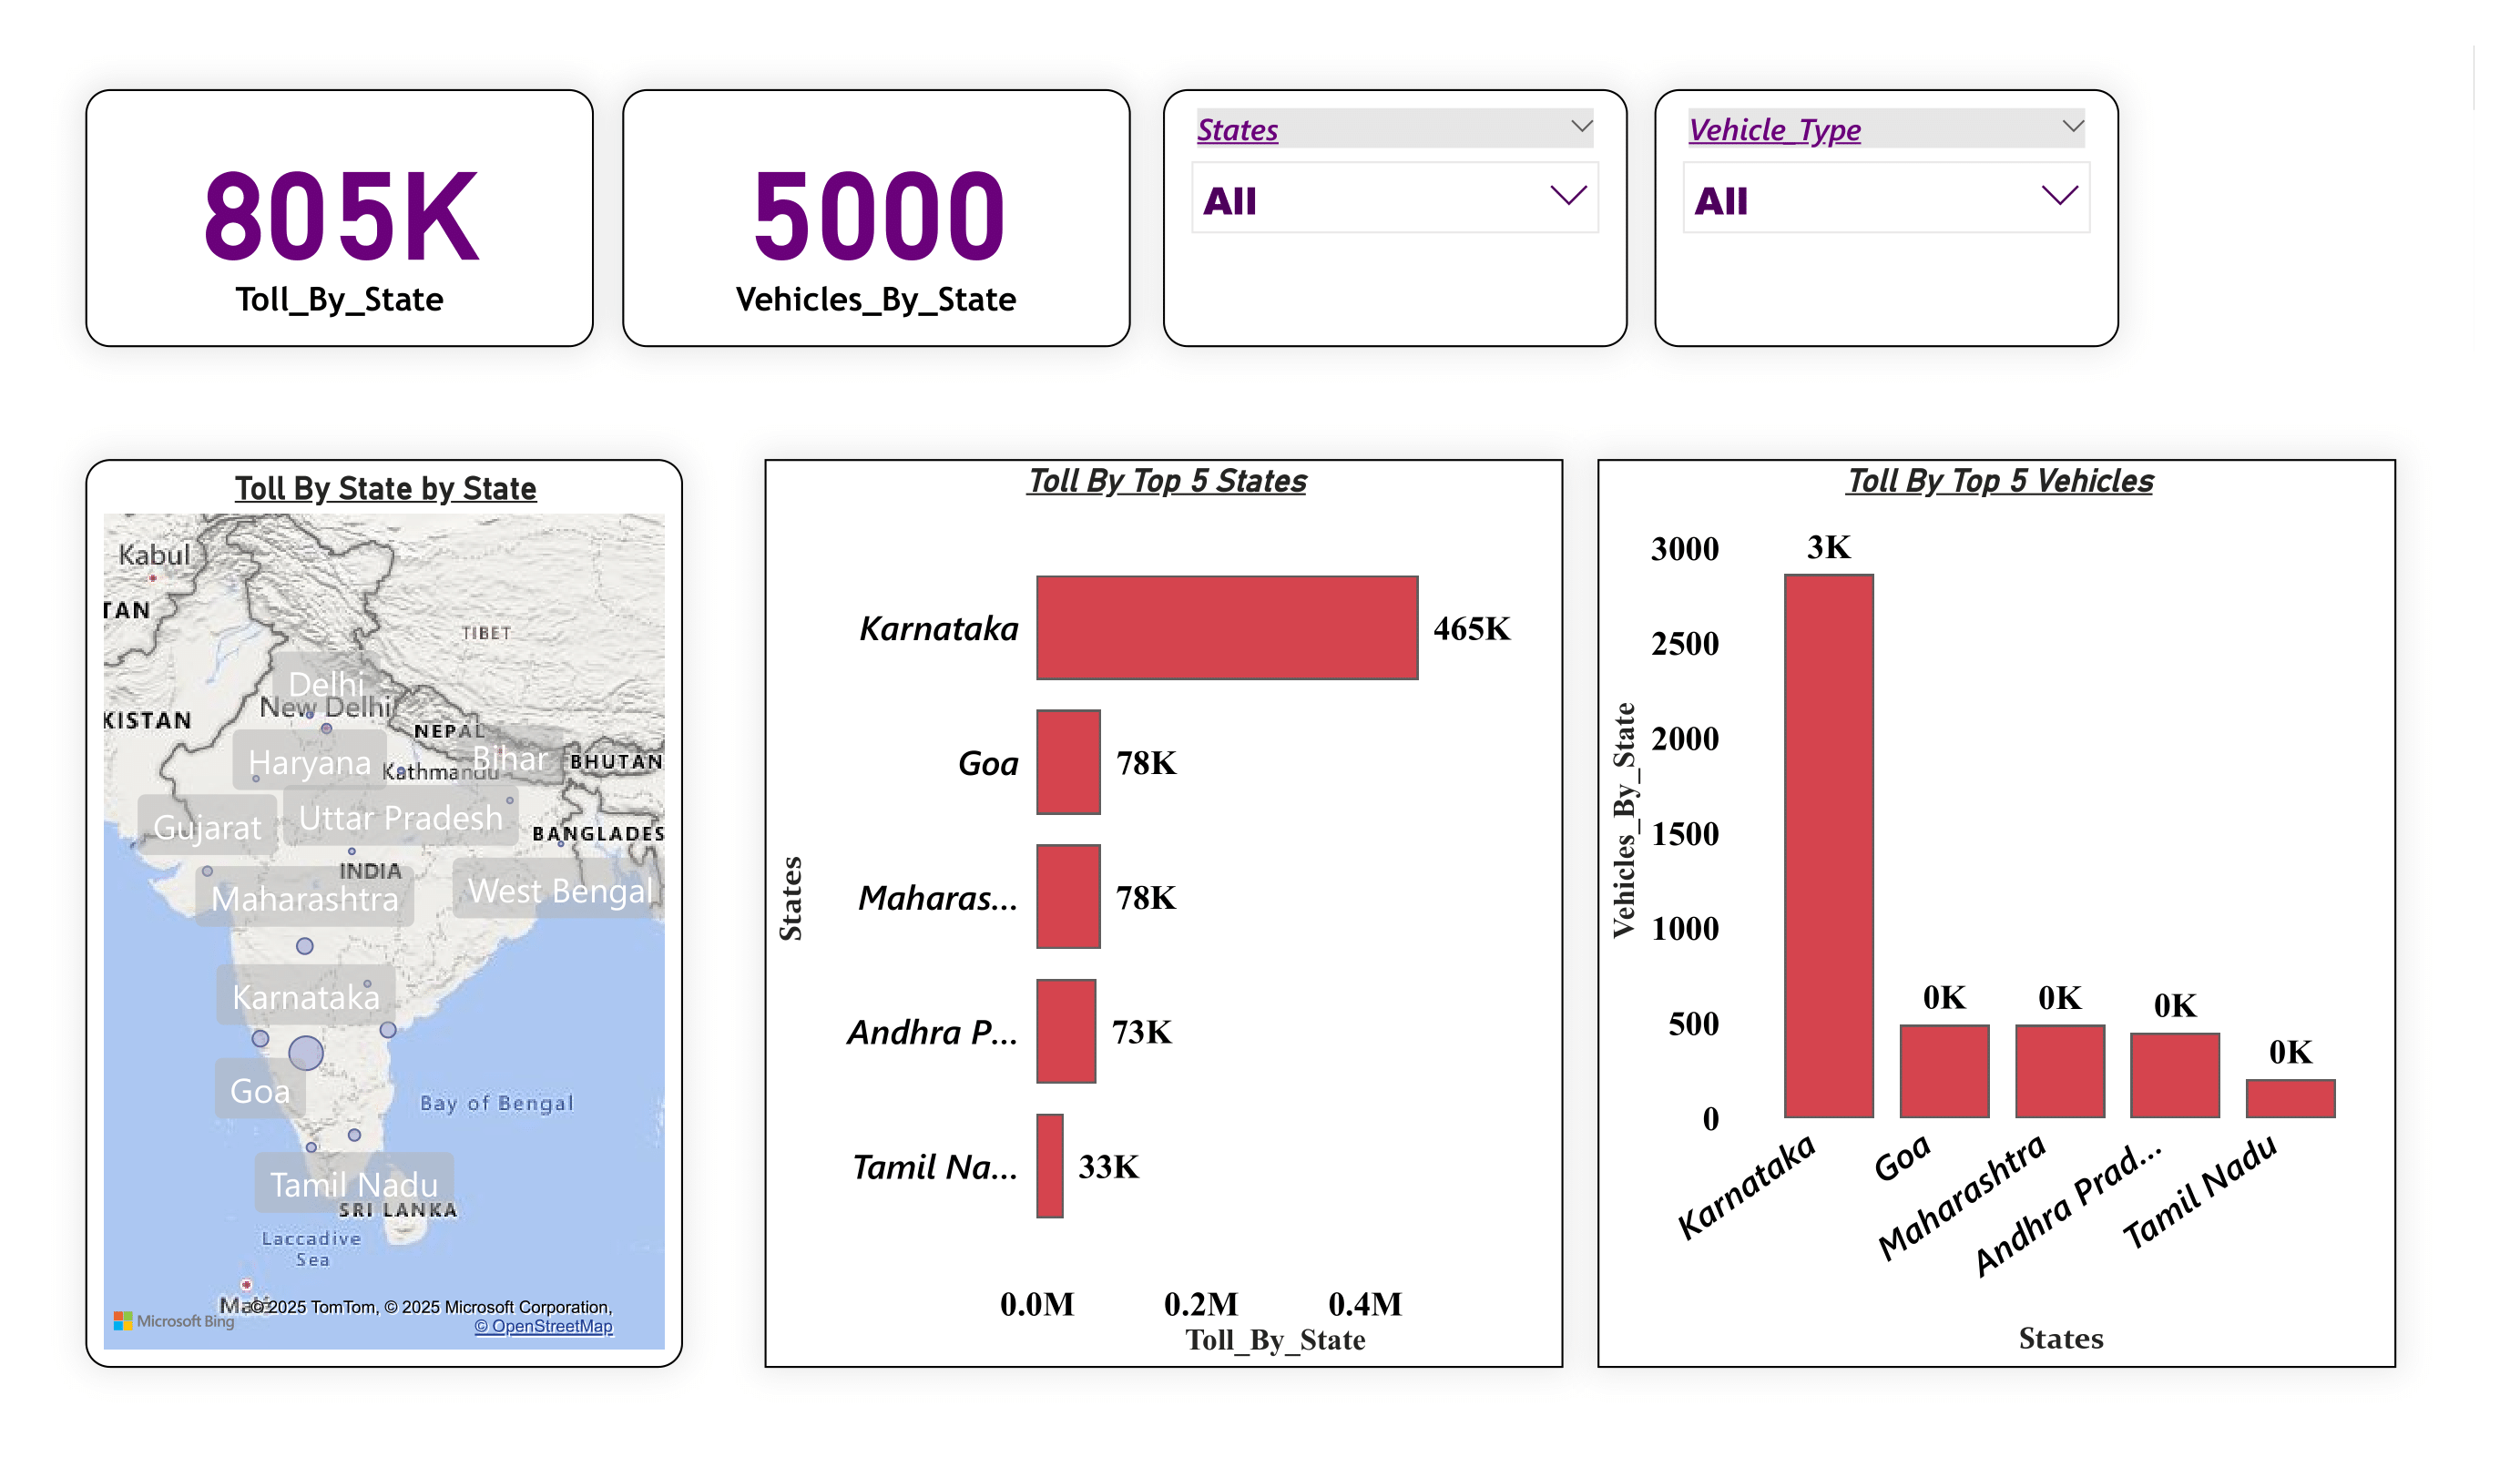

What the dashboard file says about the page in this screenshot:
{"tool":"powerbi","page":{"name":"Page 2","canvas":[1280,720],"ordinal":1},"visuals":[{"type":"card","fields":{"Values":["Measure Table.Toll_By_State"]},"box":[21.2,22.7,268,136.3],"z":0},{"type":"card","fields":{"Values":["Measure Table.Vehicles_By_State"]},"box":[304.4,22.7,268,136.3],"z":1000},{"type":"map","title":"Toll By State by  State ","fields":{"Category":["FastagFraudDetection. State full name"],"Size":["Measure Table.Toll_By_State"]},"box":[21.2,218,315,478.5],"z":2000},{"type":"clusteredBarChart","title":"Toll By Top 5 States","fields":{"Y":["Measure Table.Toll_By_State"],"Category":["FastagFraudDetection. State full name"]},"box":[378.6,218,420.9,478.5],"z":3000},{"type":"clusteredColumnChart","title":"Toll By Top 5 Vehicles","fields":{"Category":["FastagFraudDetection. State full name"],"Y":["Measure Table.Vehicles_By_State"]},"box":[817.7,218,420.9,478.5],"z":4000},{"type":"slicer","fields":{"Values":["FastagFraudDetection. State full name"]},"box":[589,22.7,245.3,136.3],"z":5000},{"type":"slicer","fields":{"Values":["FastagFraudDetection.Vehicle_Type"]},"box":[848,22.7,245.3,136.3],"z":6000}]}

Visuals, with their boxes in screenshot pixels (x1, y1, x2, y2):
card - Measure Table.Toll_By_State: bbox(86, 88, 595, 347)
card - Measure Table.Vehicles_By_State: bbox(623, 88, 1132, 347)
"Toll By State by  State " map: bbox(86, 459, 684, 1367)
"Toll By Top 5 States" clusteredBarChart: bbox(764, 459, 1563, 1367)
"Toll By Top 5 Vehicles" clusteredColumnChart: bbox(1597, 459, 2396, 1367)
slicer - FastagFraudDetection. State full name: bbox(1163, 88, 1628, 347)
slicer - FastagFraudDetection.Vehicle_Type: bbox(1655, 88, 2120, 347)
